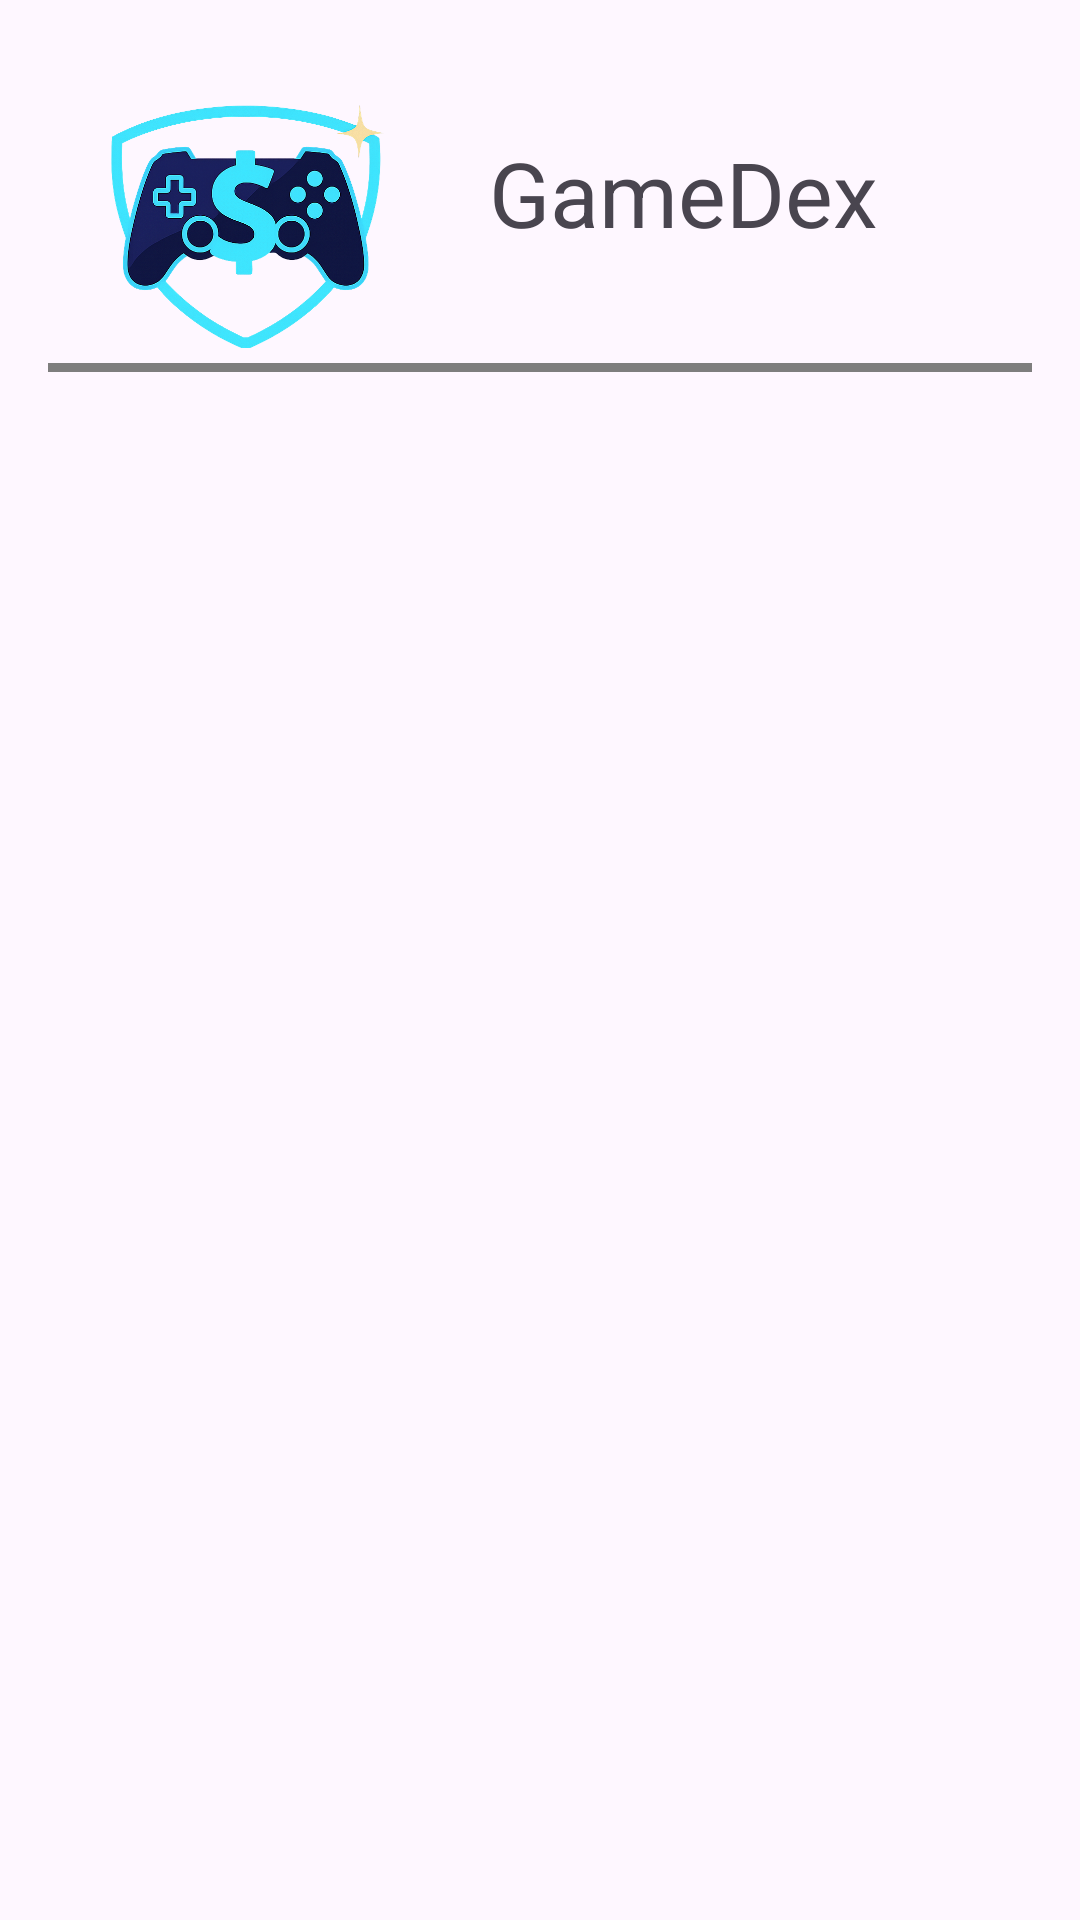

Icons on this 1080x1920 Android screen, each with its box as (x1, y1, x2, y2):
apkicon: (111, 105, 381, 348)
